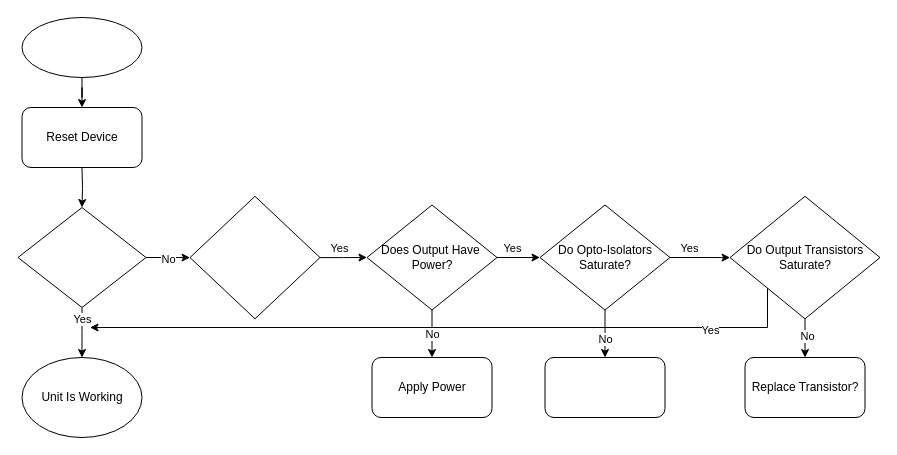
This 897x455 diagram has some shape labels left out. The shapes that lost their labels are listed below. From the top down, each one's centre as x and y in pixels, then its label:
At point (81, 47): "String Unit".
At point (81, 257): "Do Solenoids Fire?".
At point (254, 257): "Are There Output Pulses From Processor?".
At point (604, 387): "Replace Opto-Isolator?".
